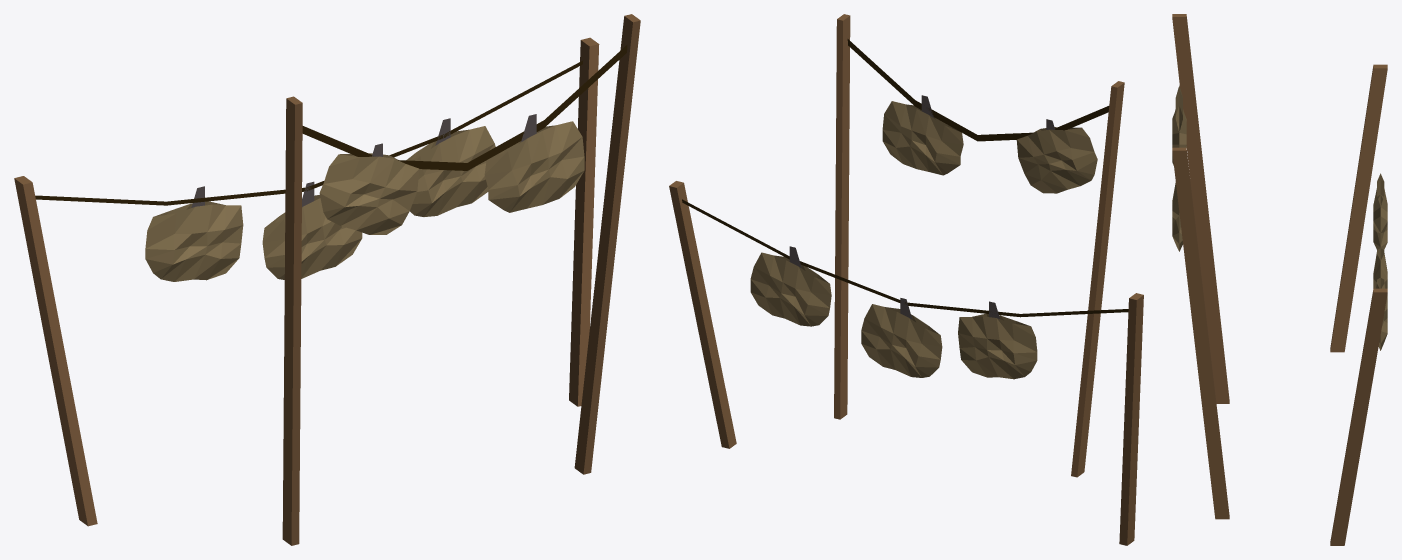
File: obj_tanning_line_0.obj
3 renders of one model, left to right at view 1: azimuth 30°, elevation 25°; view 2: azimuth 150°, elevation 25°; view 3: azimuth 270°, elevation 25°, orthographic. The views are drawn at different scales.
Size of the model in its own units: 2.34 by 1.81 by 0.9375.
